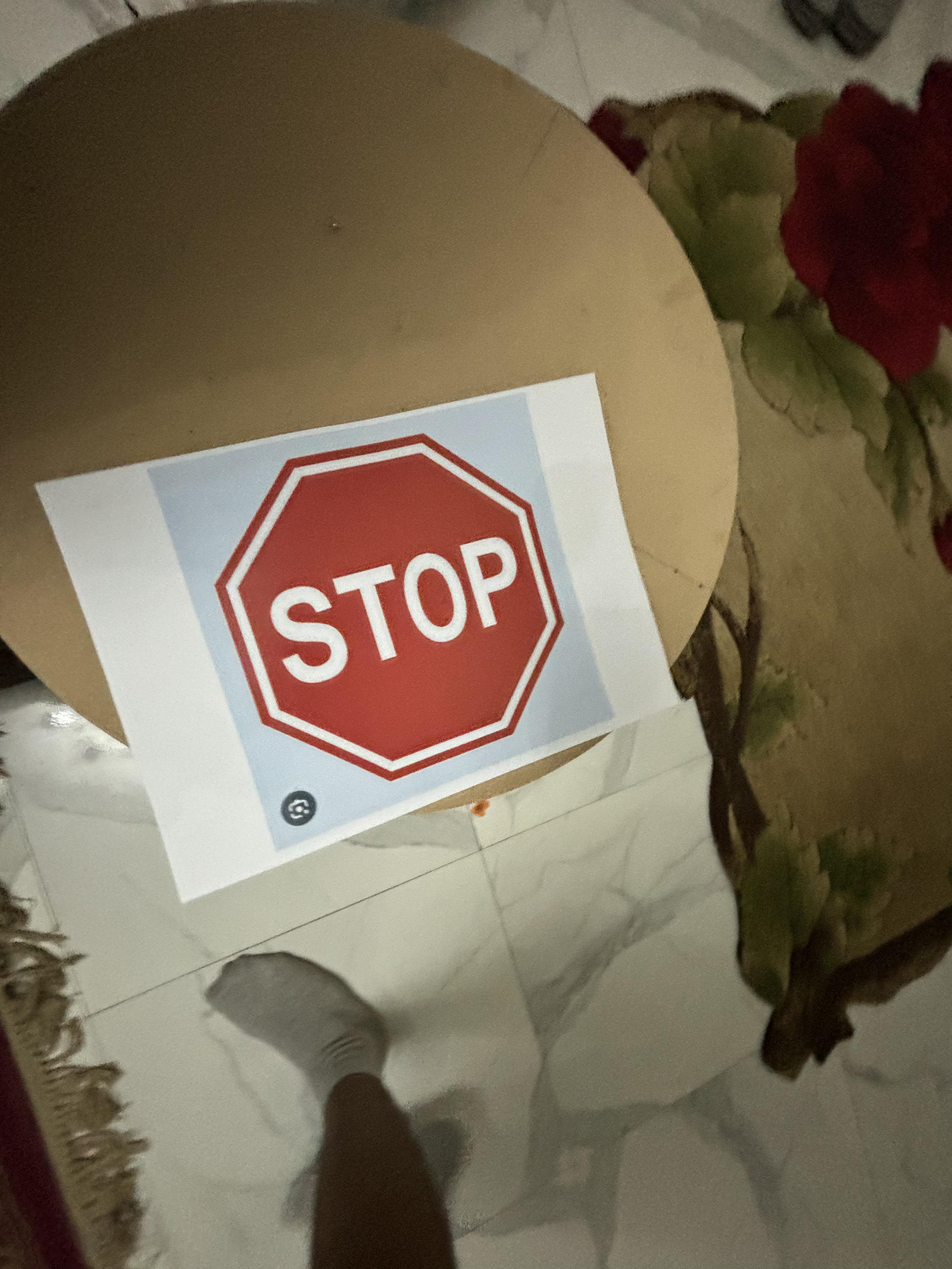Stop: (219, 429, 578, 786)
